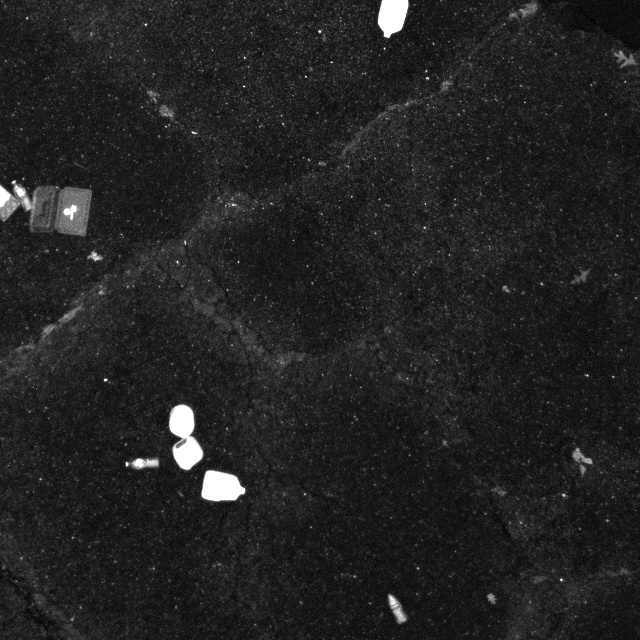bottle: (123, 456, 166, 475)
can: (199, 466, 252, 507), (168, 435, 209, 476), (164, 401, 200, 440)
container: (31, 179, 95, 242)
